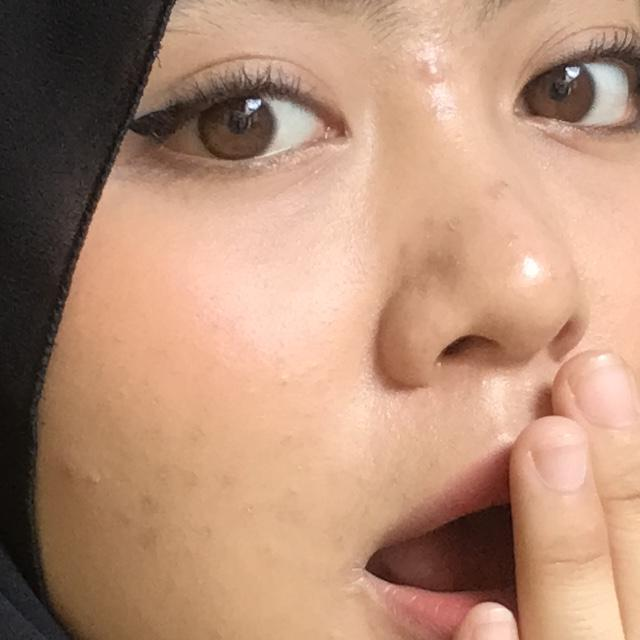ngantuk: (290, 326, 640, 640)
